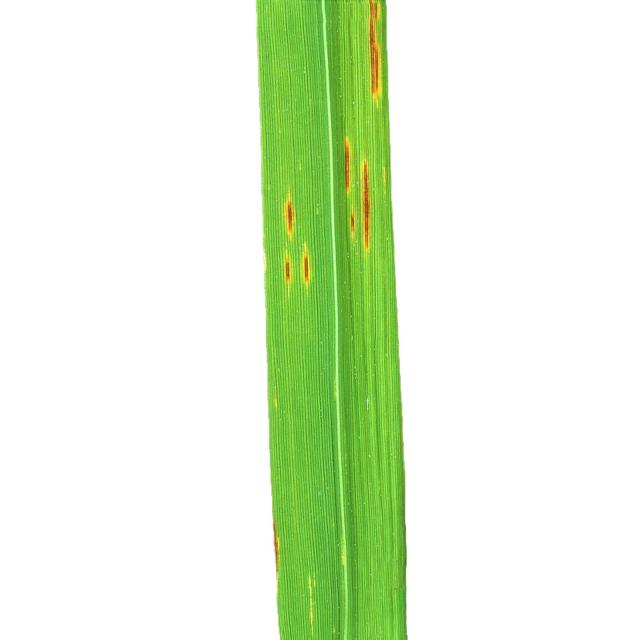Narrow brown: (210, 6, 598, 640)
